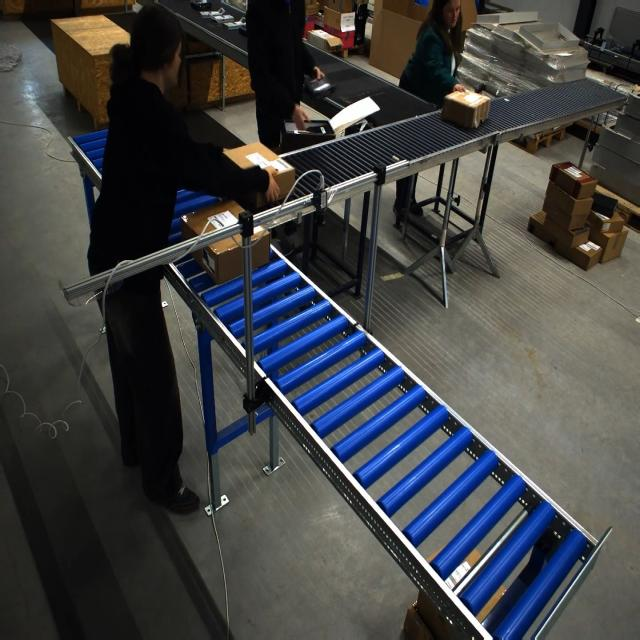box: (180, 200, 270, 284), (221, 142, 290, 208), (440, 89, 490, 129)
product: (327, 96, 377, 133), (302, 75, 331, 98), (323, 97, 345, 111), (190, 0, 212, 11), (210, 14, 234, 22), (224, 20, 245, 29), (238, 24, 247, 37)
